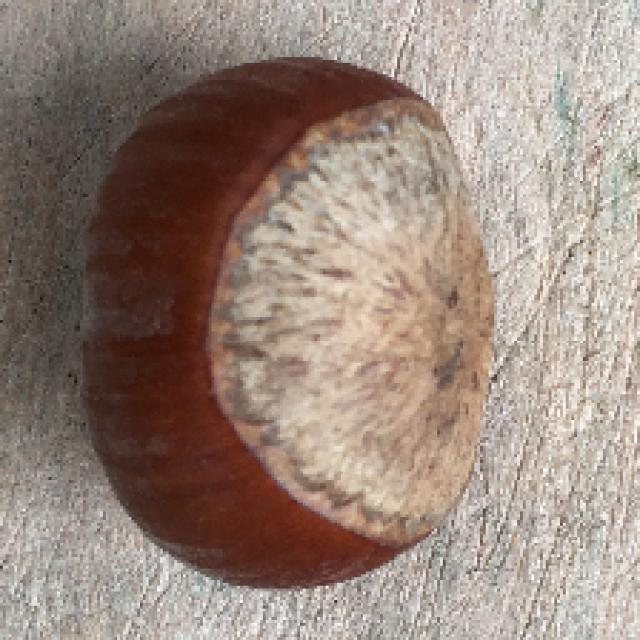qualityHazelnut: (64, 53, 502, 598)
